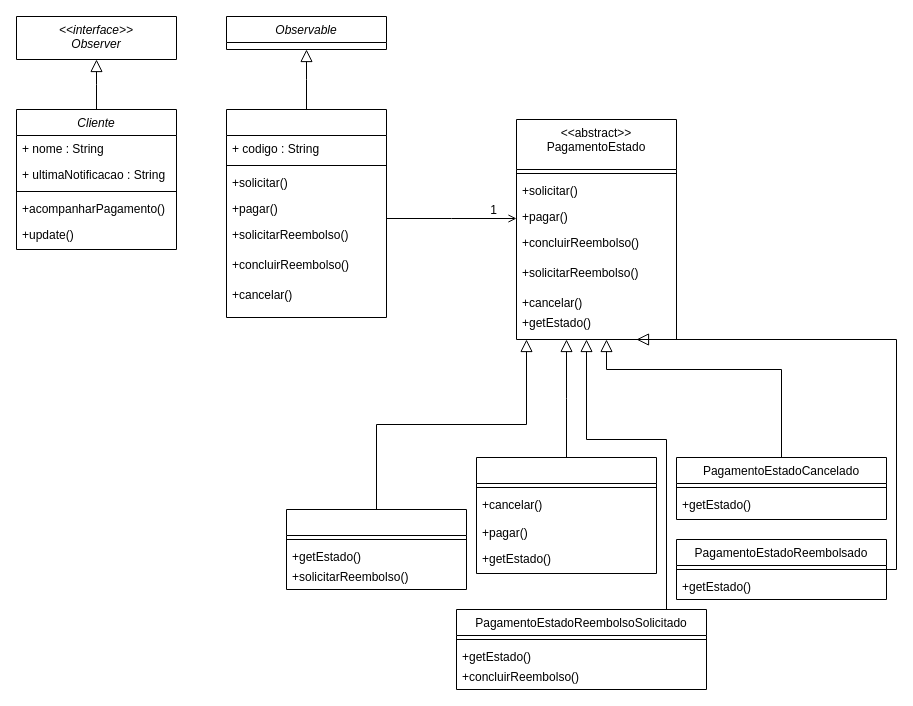
Image size: 913x706. Some labels were removed from this diagram. The shapes that lost their labels are listed below. From the top down, each one's box as (x1, y1, x2, y2) in pixels, then its label:
(226, 108, 386, 318): Pagamento
(476, 456, 656, 574): PagamentoEstadoAguardando
(286, 508, 466, 590): PagamentoEstadoPago
